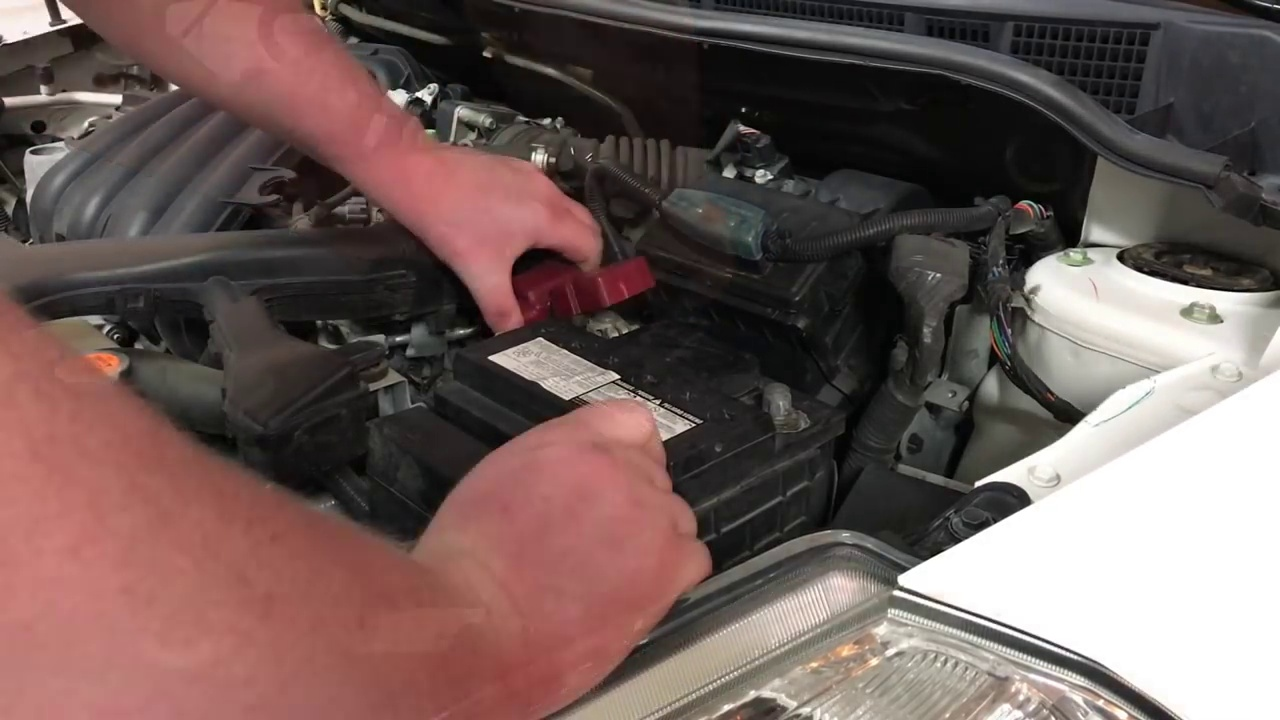battery: (445, 298, 813, 484)
neg_disconnected: (737, 354, 839, 439)
pos_touched: (469, 196, 649, 360)
